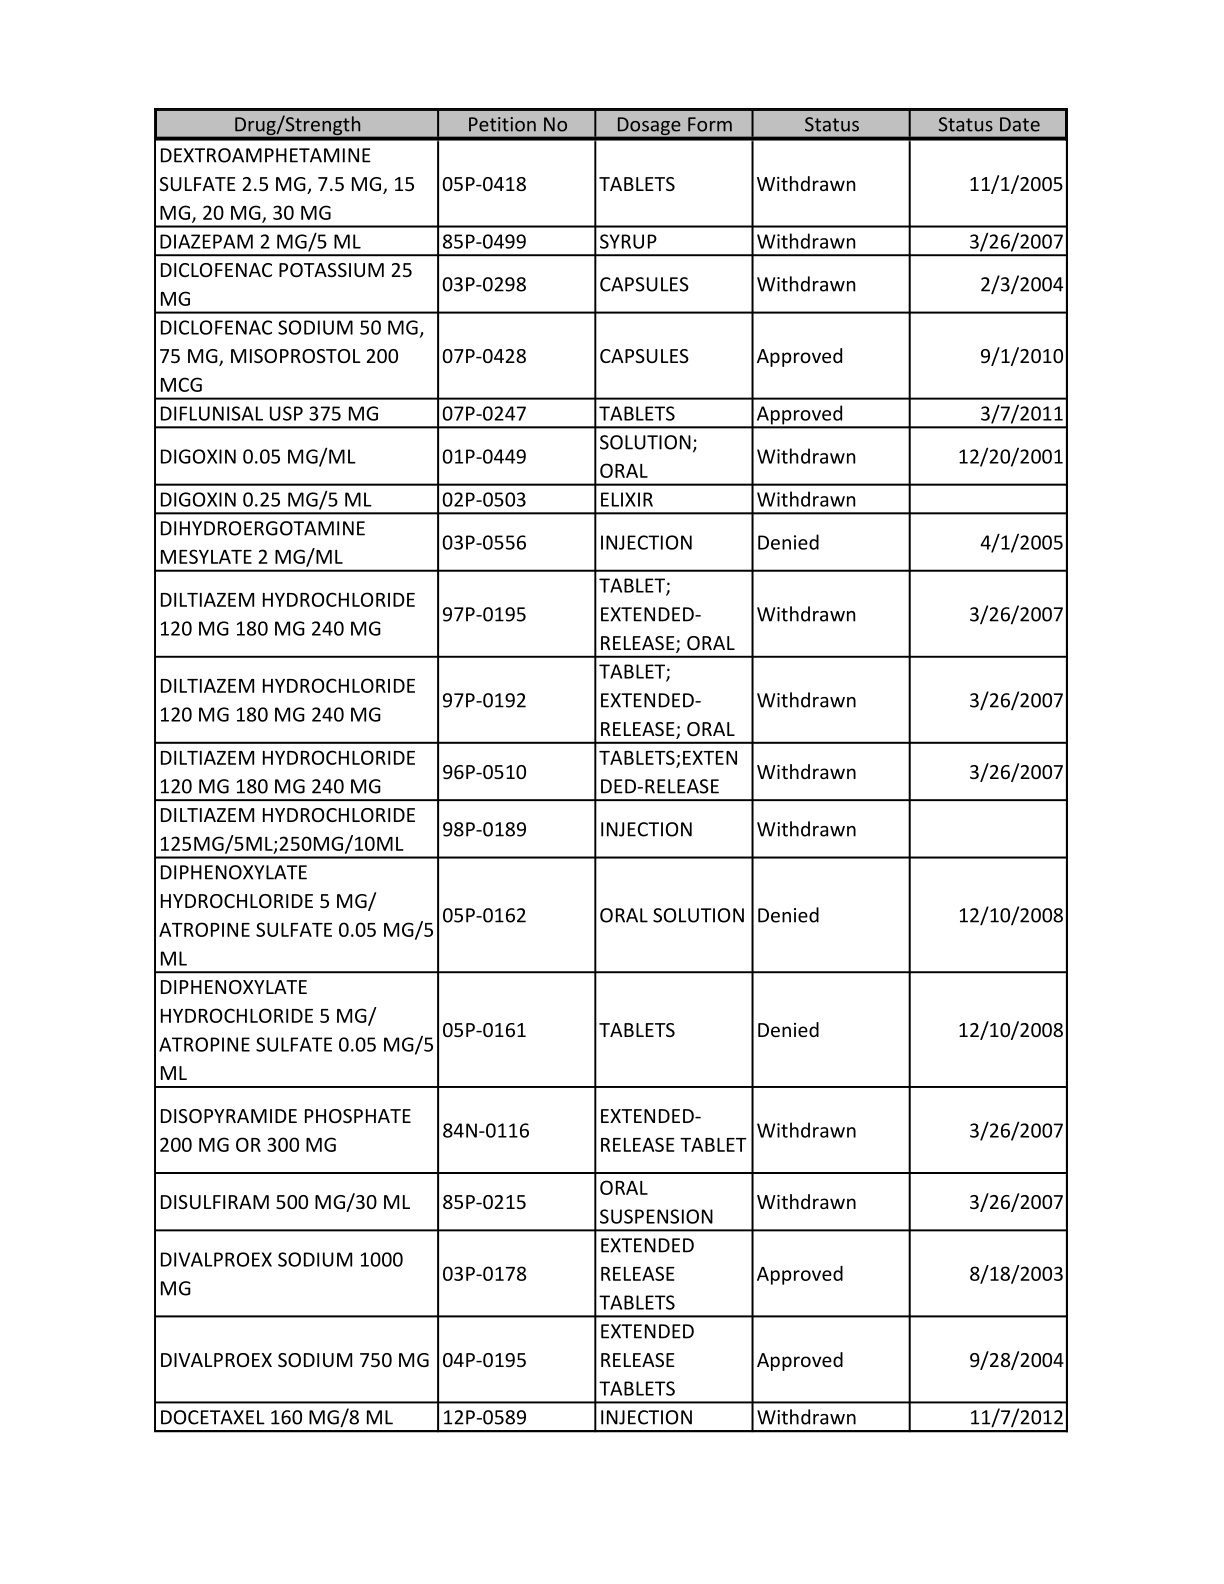full_lined: (153, 108, 1068, 1434)
